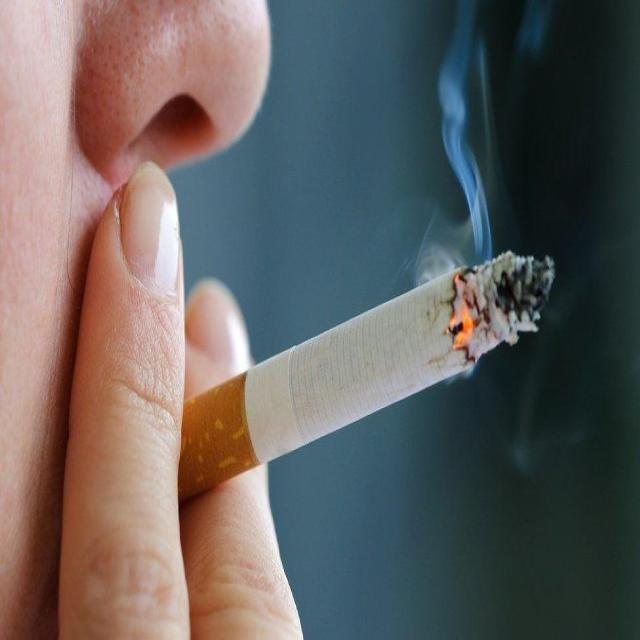cigarette: (178, 254, 555, 500)
